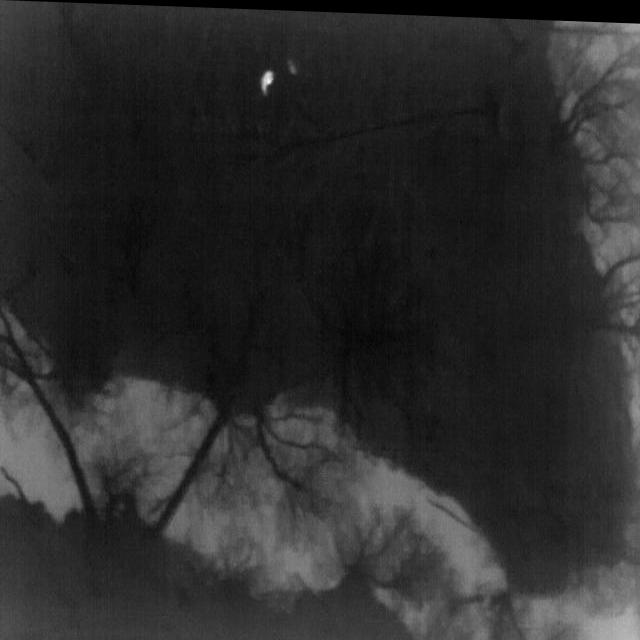deer: (260, 68, 274, 95), (288, 57, 300, 73)
